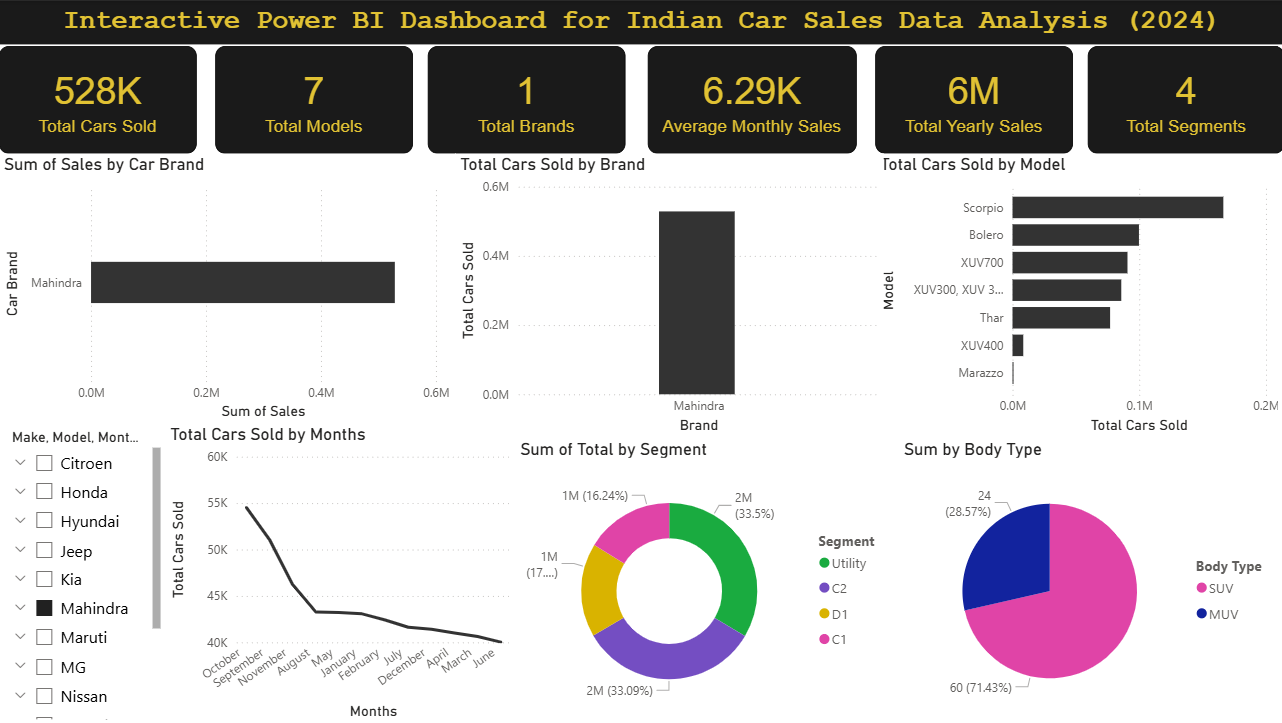

The page's visual inventory and layout, read from the dashboard file:
{"tool":"powerbi","page":{"name":"Page 1","canvas":[1280,720],"ordinal":0},"visuals":[{"type":"card","fields":{"Values":["Sheet1.Total Cars Sold"]},"box":[0,44.8,196.5,107],"z":0},{"type":"card","fields":{"Values":["Sheet1.Total Models"]},"box":[215.2,44.8,196.5,107],"z":1},{"type":"card","fields":{"Values":["Sheet1.Total Brands"]},"box":[426.7,44.8,196.5,107],"z":2},{"type":"card","fields":{"Values":["Car Sales.Average Monthly Sales"]},"box":[645.6,44.8,207.7,107],"z":3},{"type":"card","fields":{"Values":["Car Sales.Total Yearly Sales"]},"box":[872,44.8,196.5,107],"z":4},{"type":"card","fields":{"Values":["Car Sales.Total Segments"]},"box":[1083.4,44.8,196.5,107],"z":5},{"type":"clusteredBarChart","fields":{"Category":["Car Sales.Make"],"Y":["Sum(Car Sales.Sales)"]},"box":[0,151.8,454,269.9],"z":6},{"type":"pieChart","fields":{"Category":["Car Sales.Body Type"],"Y":["CountNonNull(Car Sales.Total)"]},"box":[895.7,435.4,384.4,284.9],"z":7},{"type":"donutChart","fields":{"Category":["Car Sales.Segment"],"Y":["Sum(Car Sales.Total)"]},"box":[513.8,435.4,381.9,284.9],"z":8},{"type":"barChart","fields":{"Category":["Car Sales.Model"],"Y":["Car Sales.Total Cars Sold"]},"box":[872,151.8,408,283.6],"z":10},{"type":"slicer","fields":{"Values":["Car Sales.Make","Car Sales.Model","Car Sales.Months","Car Sales.Body Type","Car Sales.Segment"]},"box":[0,420.5,165.4,299.8],"z":11},{"type":"lineChart","fields":{"Y":["Car Sales.Total Cars Sold"],"Category":["Car Sales.Months"]},"box":[165.4,420.5,348.3,299.8],"z":12},{"type":"lineClusteredColumnComboChart","fields":{"Y":["Car Sales.Total Cars Sold"],"Category":["Car Sales.Make"]},"box":[454,151.8,426.7,283.6],"z":13},{"type":"textbox","box":[0,0,1280,43.5],"z":14}]}

Visuals, with their boxes in screenshot pixels (x1, y1, x2, y2), scaled from the page's 1280x720 canvas onto the 1282x723 screenshot:
card - Sheet1.Total Cars Sold: left=0, top=45, right=197, bottom=152
card - Sheet1.Total Models: left=216, top=45, right=412, bottom=152
card - Sheet1.Total Brands: left=427, top=45, right=624, bottom=152
card - Car Sales.Average Monthly Sales: left=647, top=45, right=855, bottom=152
card - Car Sales.Total Yearly Sales: left=873, top=45, right=1070, bottom=152
card - Car Sales.Total Segments: left=1085, top=45, right=1281, bottom=152
clusteredBarChart - Car Sales.Make x Sum(Car Sales.Sales): left=0, top=152, right=455, bottom=423
pieChart - Car Sales.Body Type x CountNonNull(Car Sales.Total): left=897, top=437, right=1281, bottom=722
donutChart - Car Sales.Segment x Sum(Car Sales.Total): left=515, top=437, right=897, bottom=722
barChart - Car Sales.Model x Car Sales.Total Cars Sold: left=873, top=152, right=1281, bottom=437
slicer - Car Sales.Make x Car Sales.Model: left=0, top=422, right=166, bottom=722
lineChart - Car Sales.Total Cars Sold x Car Sales.Months: left=166, top=422, right=515, bottom=722
lineClusteredColumnComboChart - Car Sales.Total Cars Sold x Car Sales.Make: left=455, top=152, right=882, bottom=437
textbox: left=0, top=0, right=1281, bottom=44
